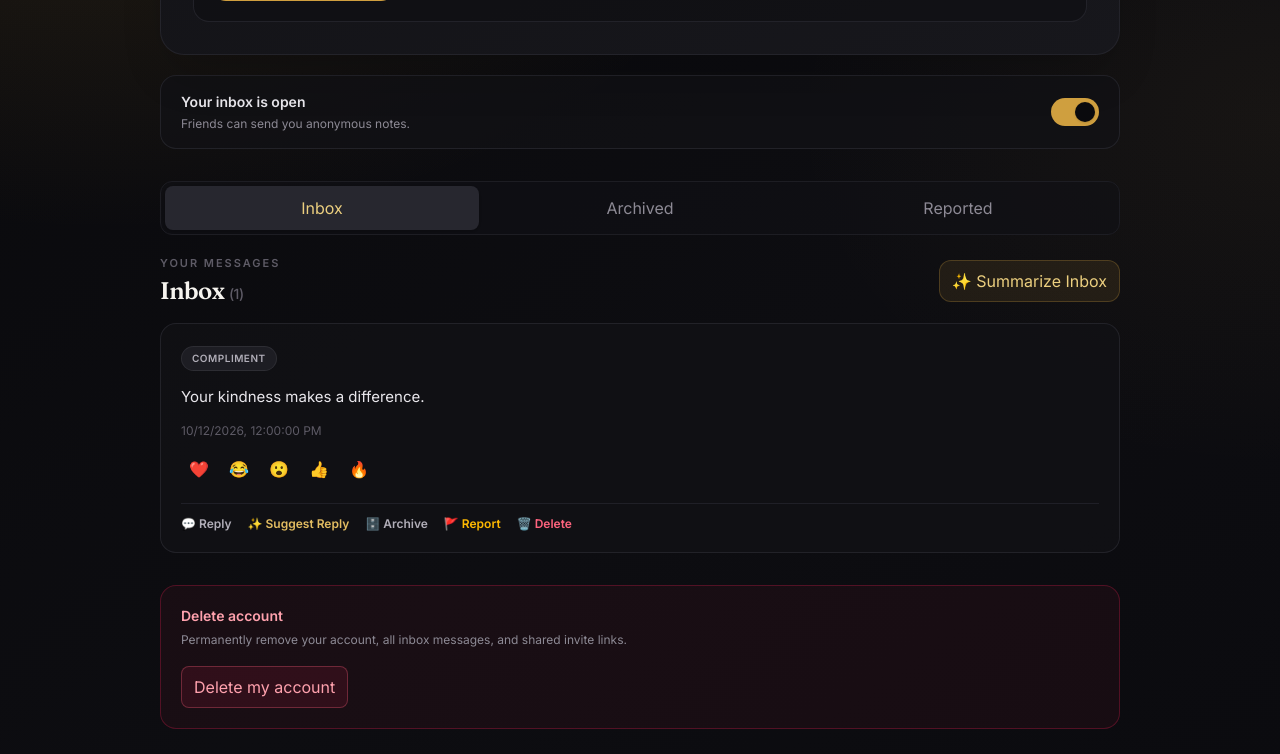
Scenario: inbox dashboard › requests and displays an AI reply suggestion
(page scrolled)
Check: the text "Your kindness makes a difference." is shown, box [181,387,425,406]
Click the button "✨ Suggest Reply" at (298, 524), box [248,516,349,532]
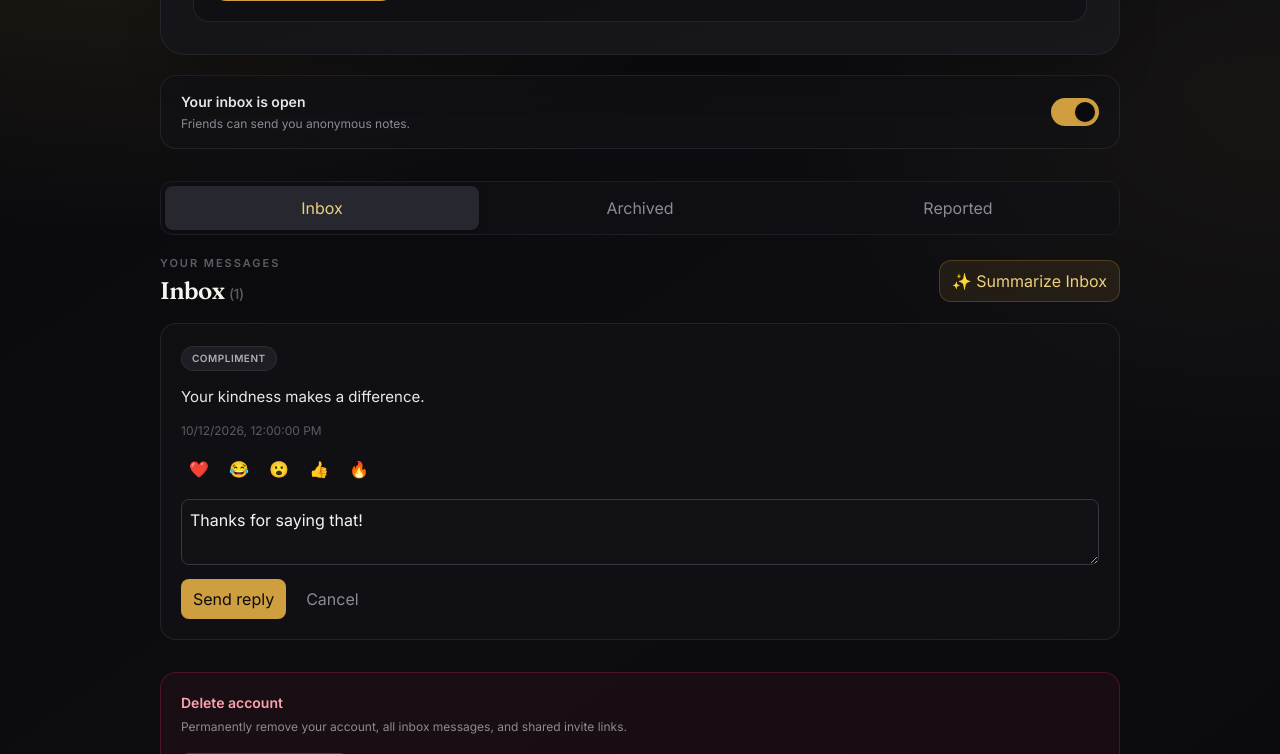
Check: the text box showing "Thanks for saying that!" is shown, box [181,499,1099,565]
